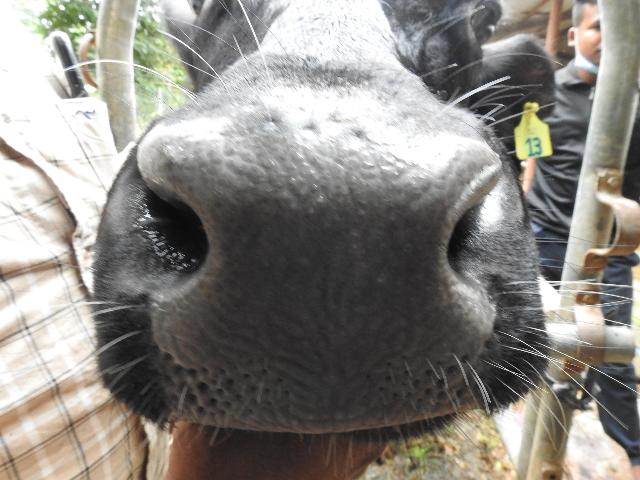Muzzle: (195, 135, 449, 401)
